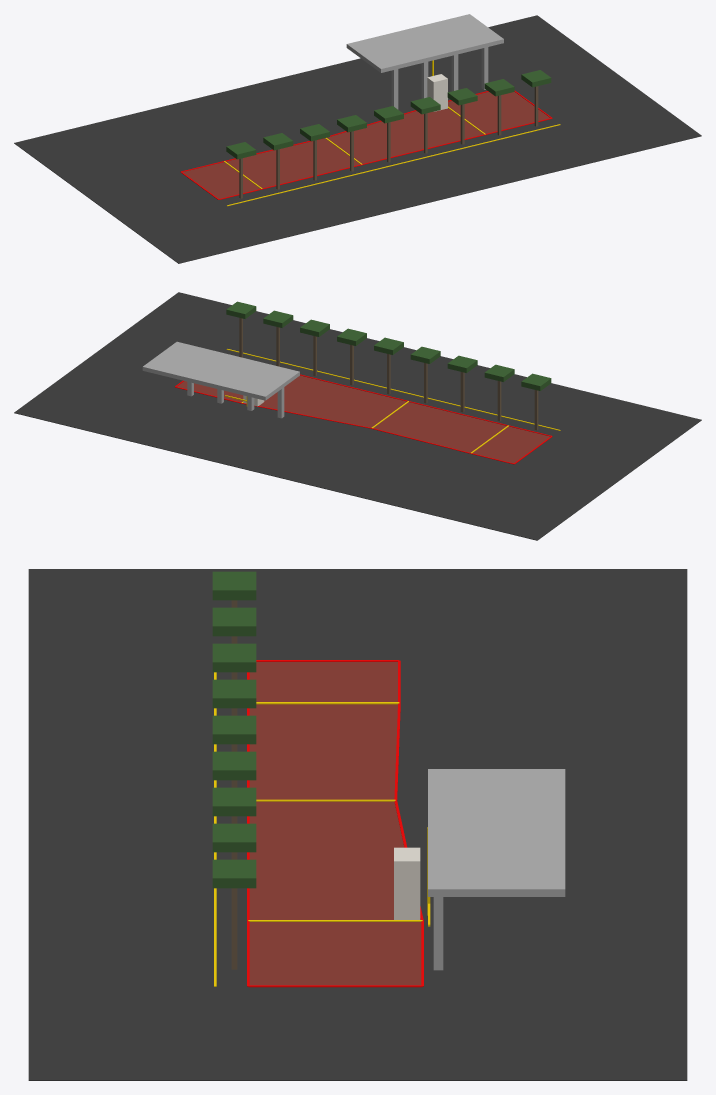
Rendered from flow_plaza.obj.
3 views of the same model, one above another, from view 1: azimuth 30°, elevation 25°; view 2: azimuth 150°, elevation 25°; view 3: azimuth 270°, elevation 25° (orthographic). The views are drawn at different scales.
Visible parts, largest first — view 1: Ground, PLAZA_Brick, Covered_Entrance_Ceiling, MARKER_Plaza_Length_70m, Daniel_Popper_Sculpture; view 2: Ground, PLAZA_Brick, Covered_Entrance_Ceiling, MARKER_Plaza_Length_70m; view 3: Ground, PLAZA_Brick, Covered_Entrance_Ceiling, Daniel_Popper_Sculpture, Palm_01_Crown, Palm_02_Crown, Palm_03_Crown, Palm_04_Crown, Palm_05_Crown, Palm_06_Crown, Palm_07_Crown, Palm_08_Crown (+2 smaller).
Part boxes in pixels (left/top/right/bottom): Ground: left=14, top=15, right=701, bottom=263; PLAZA_Brick: left=182, top=92, right=550, bottom=198; Covered_Entrance_Ceiling: left=346, top=14, right=503, bottom=72; MARKER_Plaza_Length_70m: left=226, top=124, right=560, bottom=206; Daniel_Popper_Sculpture: left=427, top=74, right=447, bottom=111; Ground: left=14, top=292, right=701, bottom=540; PLAZA_Brick: left=177, top=375, right=550, bottom=463; Covered_Entrance_Ceiling: left=142, top=341, right=299, bottom=400; MARKER_Plaza_Length_70m: left=226, top=349, right=560, bottom=430; Ground: left=28, top=569, right=687, bottom=1080; PLAZA_Brick: left=249, top=662, right=421, bottom=985; Covered_Entrance_Ceiling: left=428, top=769, right=565, bottom=896; Daniel_Popper_Sculpture: left=394, top=847, right=420, bottom=919; Palm_01_Crown: left=212, top=571, right=256, bottom=600; Palm_02_Crown: left=212, top=607, right=256, bottom=636; Palm_03_Crown: left=212, top=643, right=256, bottom=672; Palm_04_Crown: left=212, top=679, right=256, bottom=708; Palm_05_Crown: left=212, top=715, right=256, bottom=744; Palm_06_Crown: left=212, top=751, right=256, bottom=780; Palm_07_Crown: left=212, top=787, right=256, bottom=816; Palm_08_Crown: left=212, top=823, right=256, bottom=852.
Bounding box in the file's own units: 110 × 10.1 × 60.
